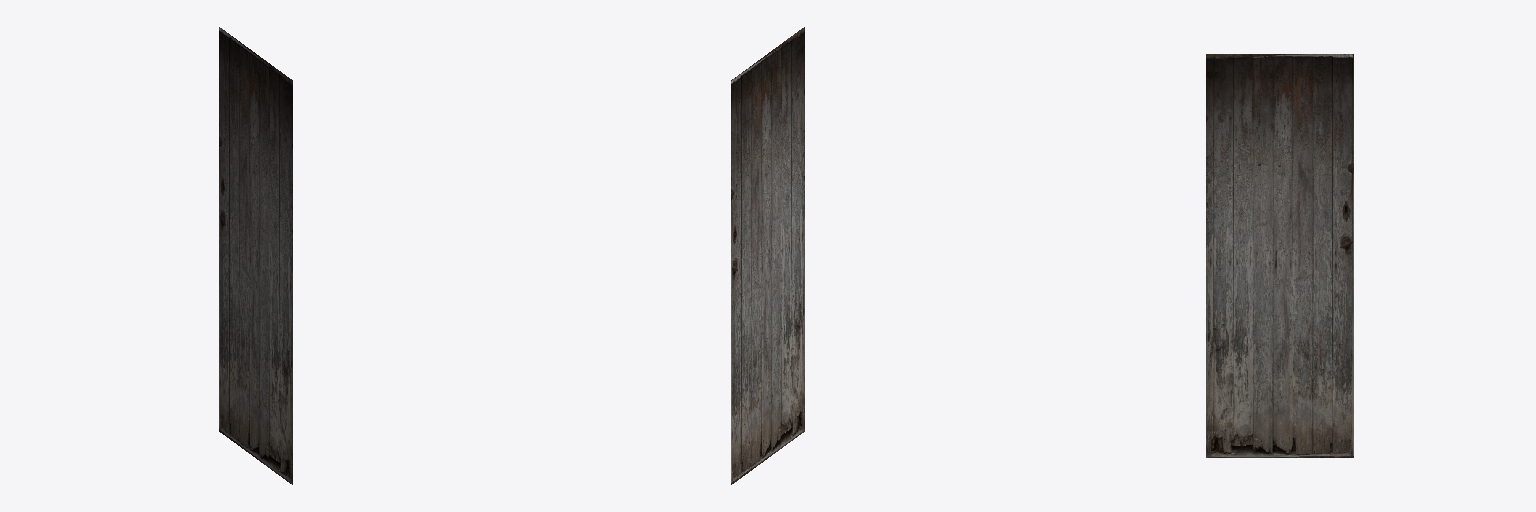
3 views of the same model, side by side, from view 1: azimuth 30°, elevation 25°; view 2: azimuth 150°, elevation 25°; view 3: azimuth 270°, elevation 25° (orthographic).
Visible parts, largest first — view 1: Mesh_wall7; view 2: Mesh_wall7; view 3: Mesh_wall7.
Boxes of the visible parts, x1=… form: Mesh_wall7: x1=219, y1=27, x2=292, y2=484; Mesh_wall7: x1=731, y1=27, x2=804, y2=484; Mesh_wall7: x1=1206, y1=54, x2=1353, y2=457.
Size of the model in its own units: 0 by 2.7 by 0.9.
Materials: 1 (1 with a texture image).